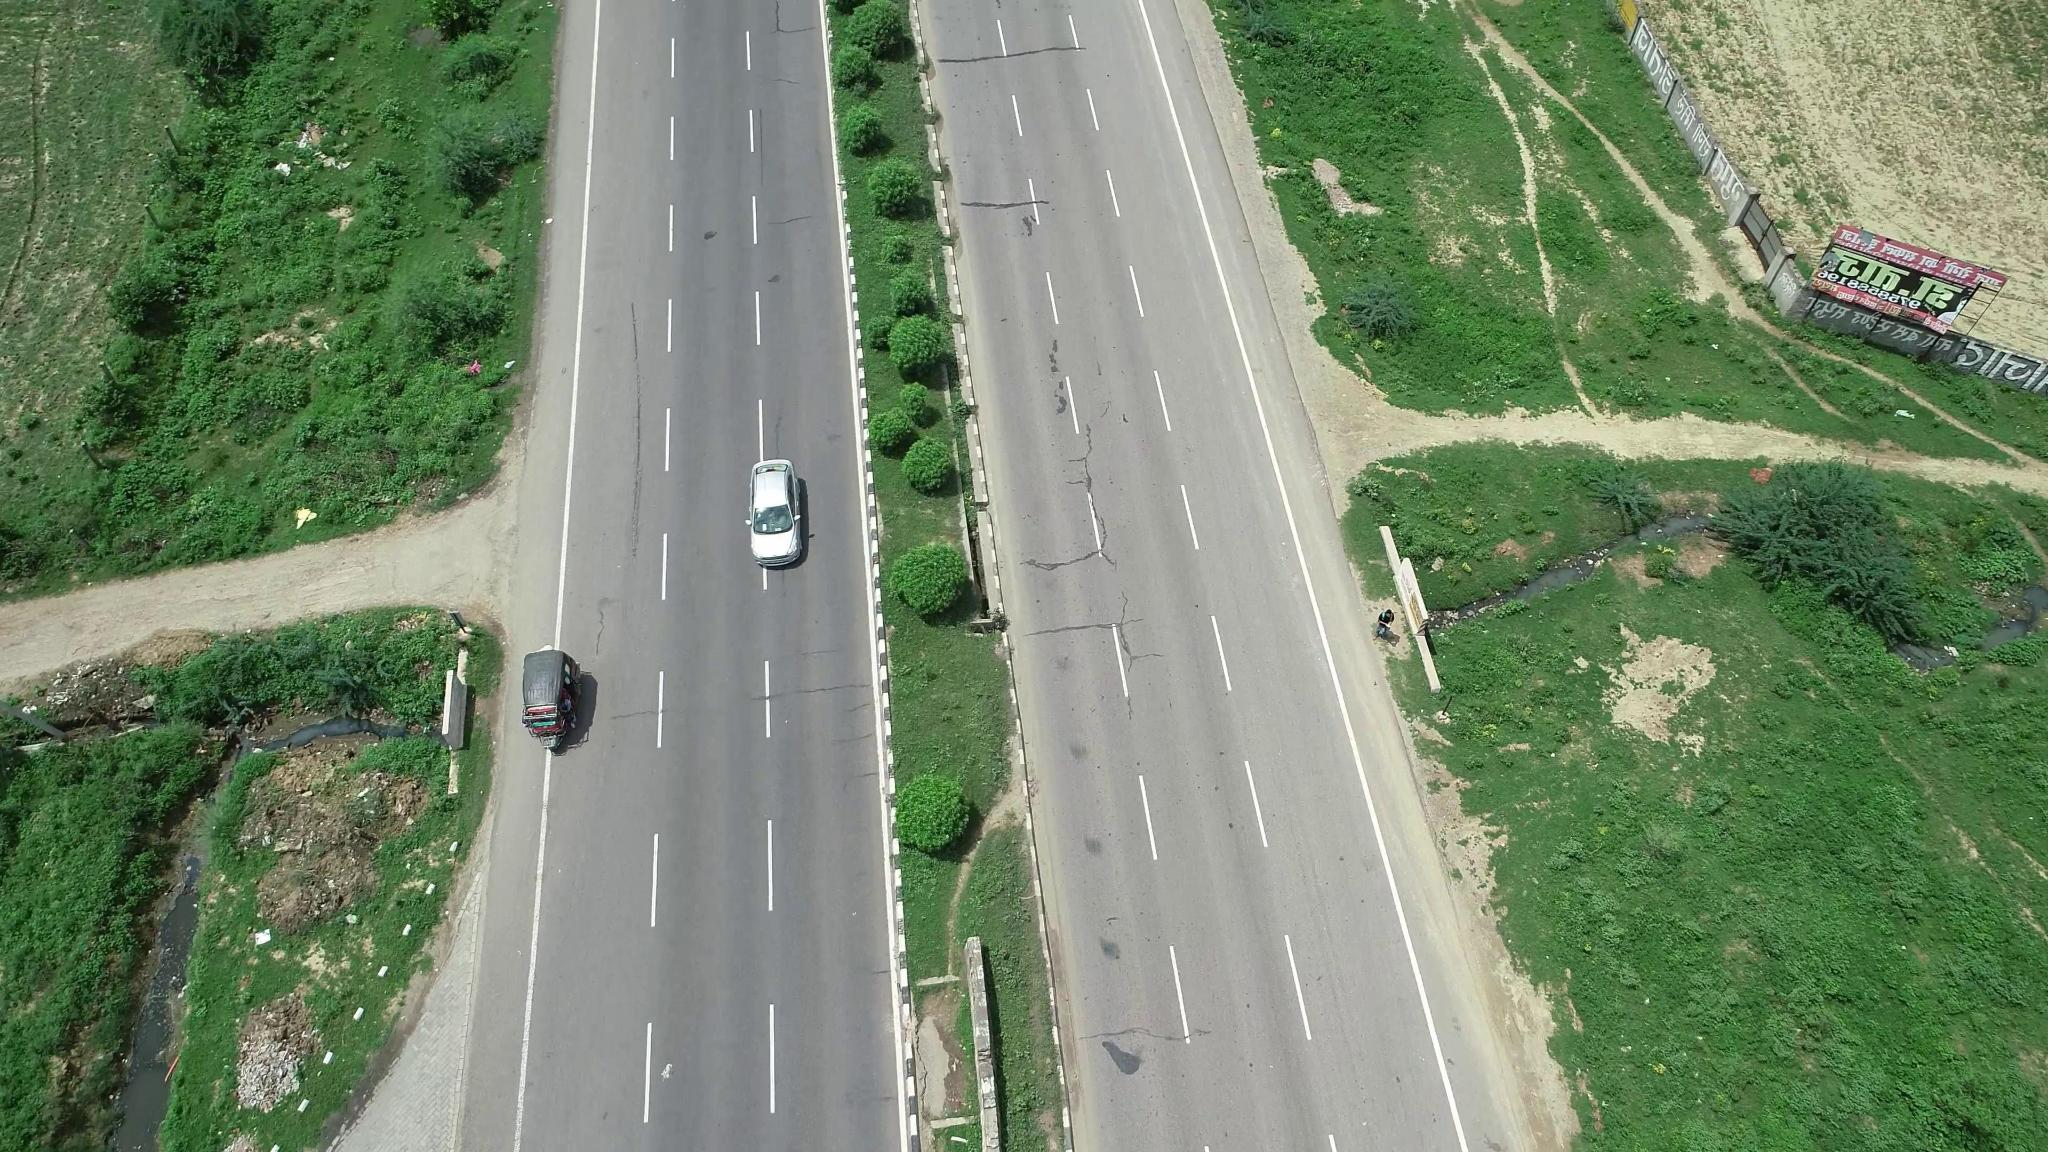Cracks: (1030, 419, 1111, 585), (1024, 592, 1152, 668), (623, 301, 648, 542)
